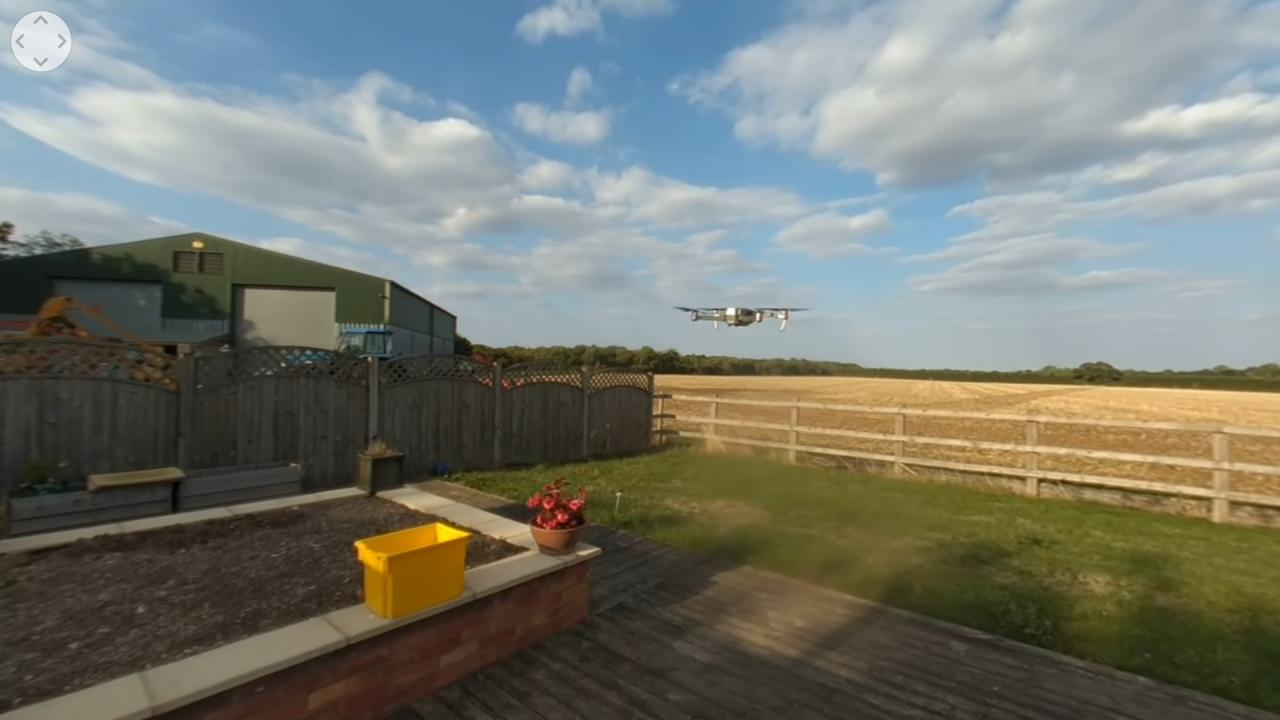Drone: (663, 290, 817, 342)
